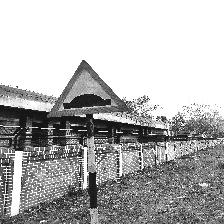Speed-breaker: (46, 60, 133, 117)
